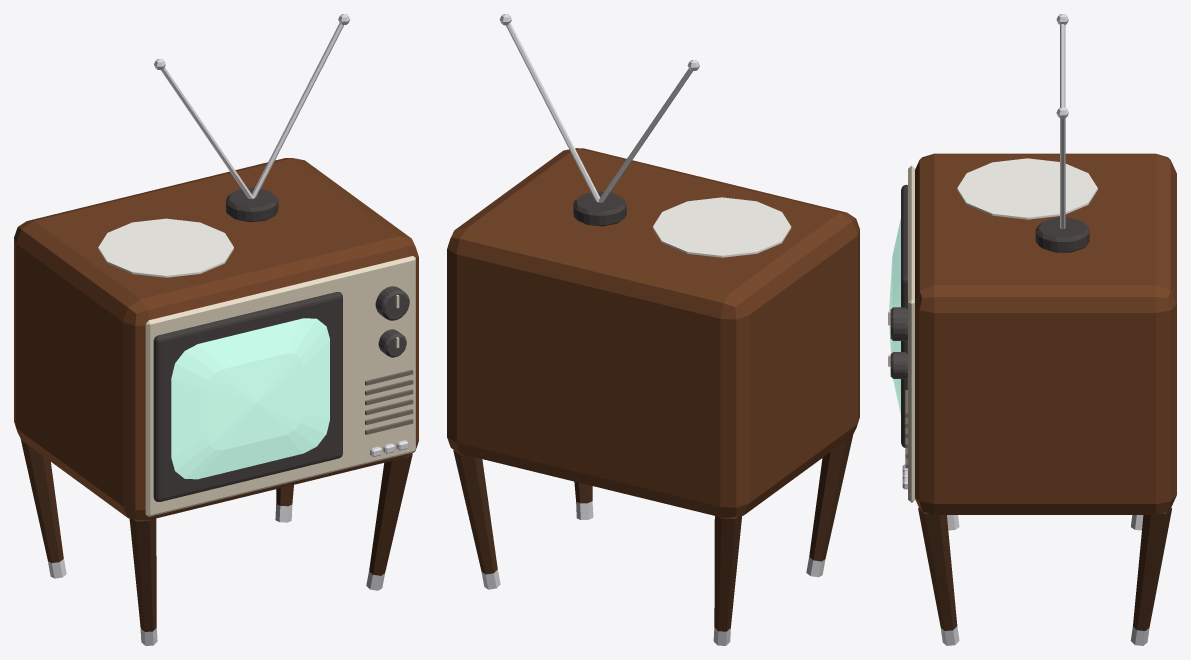
Rendered from soviet_tv.glb.
3 renders of one model, left to right at view 1: azimuth 30°, elevation 25°; view 2: azimuth 150°, elevation 25°; view 3: azimuth 270°, elevation 25°, orthographic. The views are drawn at different scales.
Parts seen in each view (by area): view 1: SovietTV; view 2: SovietTV; view 3: SovietTV.
Boxes of the visible parts, x1,y1,x2,y2 form: SovietTV: (14,14,418,645); SovietTV: (447,14,859,645); SovietTV: (888,14,1176,645).
Bounding box in the file's own units: 1 × 1.72 × 0.822.
